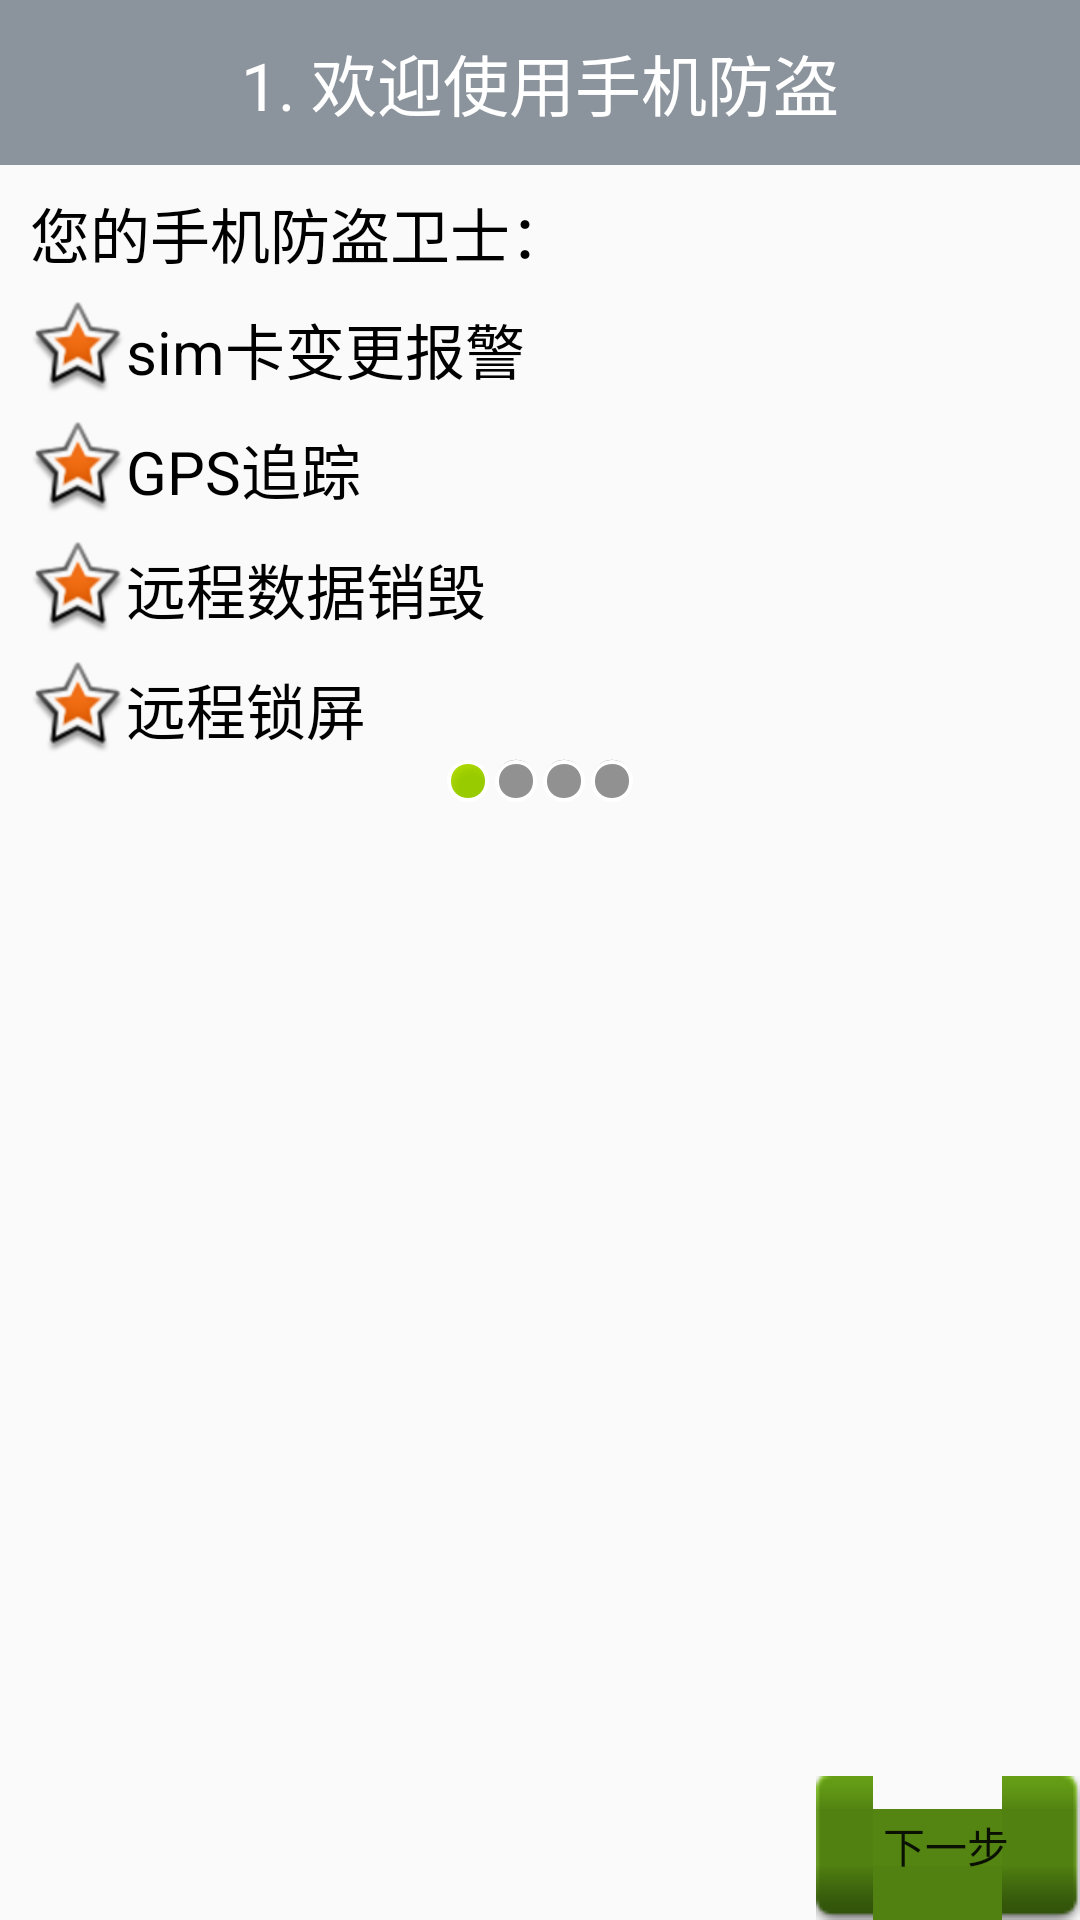

Point at icon controls on the screen. Image size 1080px×1920px, points as point (x, y).
presence invisible: point (516, 779), point (564, 779), point (612, 779)
presence online: point (468, 781)
